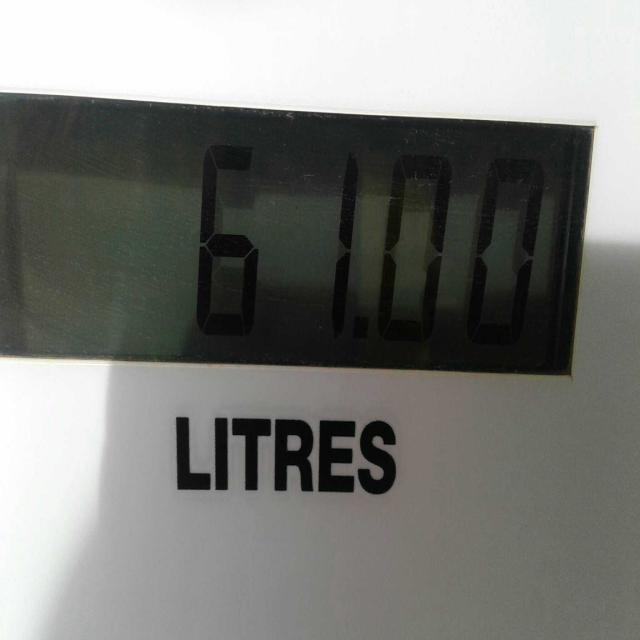.: (349, 309, 378, 363)
0: (378, 141, 451, 352), (473, 155, 549, 352)
1: (332, 128, 364, 359)
6: (185, 130, 278, 346)
